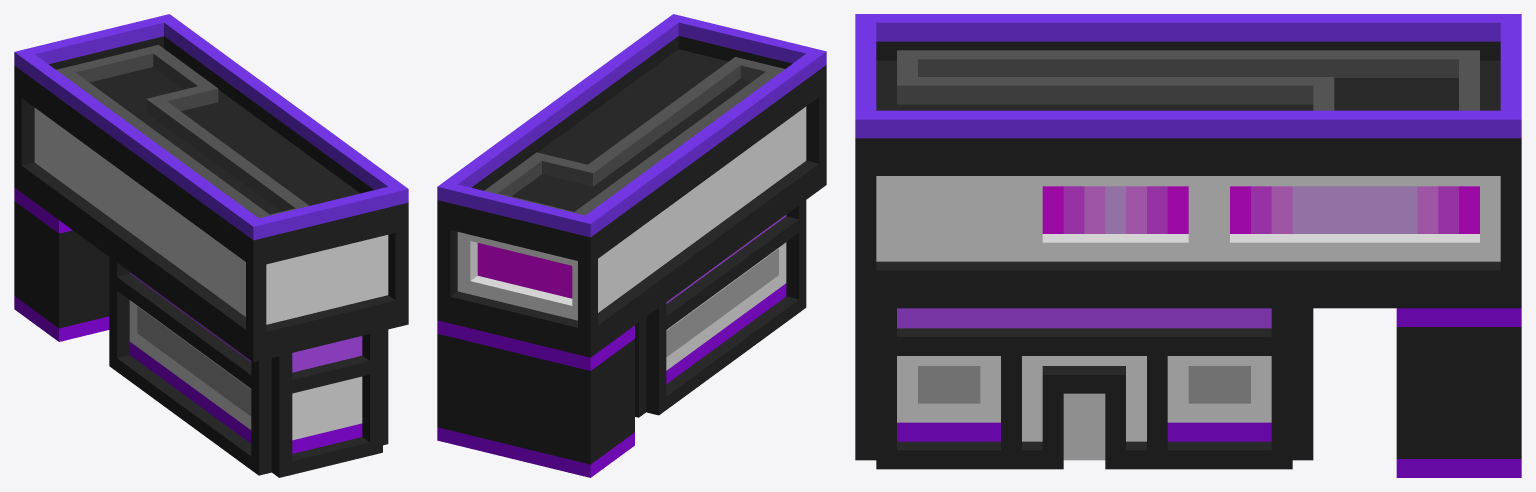
The model's file is hacker house.obj.
The picture shows the model from 3 angles, left to right: view 1: azimuth 30°, elevation 25°; view 2: azimuth 150°, elevation 25°; view 3: azimuth 270°, elevation 25°; orthographic projection. The views are drawn at different scales.
Bounding box in the file's own units: 1.2 × 1.9 × 3.2.
1 material, 1 textured.
